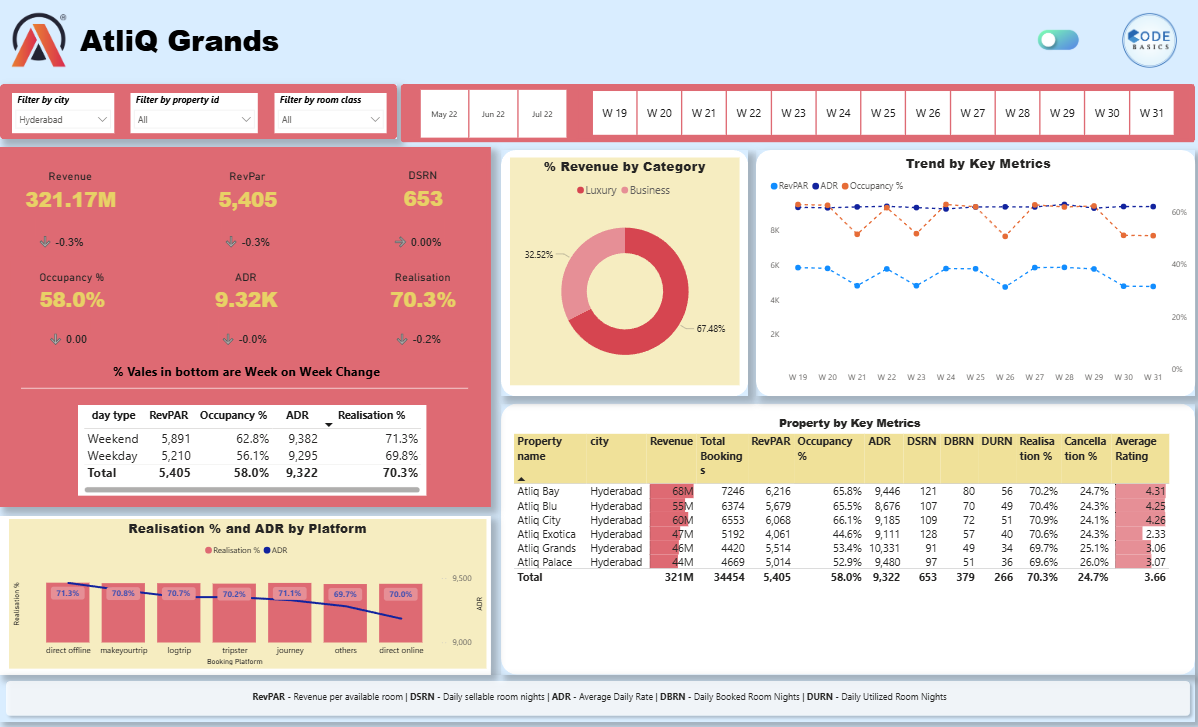

Layout of this report page (visuals, bound fields, positions):
{"tool":"powerbi","page":{"name":"Executive View","canvas":[1800,1100],"ordinal":4},"visuals":[{"type":"shape","box":[752.5,607.5,1037.5,405],"z":0},{"type":"tableEx","title":"Property by Key Metrics","fields":{"Values":["dim_hotels.property_name","dim_hotels.city","key_resources.Revenue","key_resources.Total Bookings","key_resources.RevPAR","key_resources.Occupancy %","key_resources.ADR","key_resources.DSRN","key_resources.DBRN","key_resources.DURN","key_resources.Realisation %","key_resources.Cancellation %"]},"box":[765,625,1014,350],"z":1000},{"type":"shape","box":[5,130,592.5,82.5],"z":2000},{"type":"slicer","fields":{"Values":["dim_hotels.city"]},"box":[23.3,142.5,152.5,60],"z":3000},{"type":"slicer","fields":{"Values":["dim_hotels.property_id"]},"box":[198.3,142.5,190,60],"z":4000},{"type":"slicer","fields":{"Values":["dim_rooms.room_class"]},"box":[413.3,142.5,167.5,60],"z":5000},{"type":"shape","box":[602.5,130,1187.5,87.5],"z":6000},{"type":"slicer","fields":{"Values":["dim_date.mmm yy"]},"box":[610.8,137.5,257.5,75],"z":7000},{"type":"slicer","fields":{"Values":["dim_date.week no"]},"box":[863.3,135,915,77.5],"z":8000},{"type":"shape","box":[5,225,732.5,537.5],"z":9000},{"type":"shape","box":[17.5,237.5,712.5,150],"z":10000},{"type":"shape","box":[20,395,712.5,150],"z":11000},{"type":"card","title":"Revenue","fields":{"Values":["key_resources.Revenue"]},"box":[35,257.1,147.5,70],"z":12000},{"type":"card","title":"RevPar","fields":{"Values":["key_resources.RevPAR"]},"box":[300,257.1,147.5,70],"z":13000},{"type":"tableEx","fields":{"Values":["key_resources.Revpar WoW change %"]},"box":[329,324.1,116.3,71.7],"z":14000},{"type":"card","title":"DSRN","fields":{"Values":["key_resources.DSRN"]},"box":[562.5,255.8,147.5,72.5],"z":15000},{"type":"tableEx","fields":{"Values":["key_resources.Revenue WoW change %"]},"box":[52,324.1,101.4,71.7],"z":16000},{"type":"card","title":"Occupancy %","fields":{"Values":["key_resources.Occupancy %"]},"box":[37.5,407.5,147.5,70],"z":17000},{"type":"card","title":"ADR","fields":{"Values":["key_resources.ADR"]},"box":[297.5,408.5,147.5,70],"z":18000},{"type":"card","title":"Realisation","fields":{"Values":["key_resources.Realisation %"]},"box":[561.4,408.5,147.1,70],"z":19000},{"type":"tableEx","fields":{"Values":["key_resources.Occupancy WoW change %"]},"box":[66.8,470,89.1,76.7],"z":20000},{"type":"tableEx","fields":{"Values":["key_resources.ADR WoW change %"]},"box":[324.1,470,101.4,76.7],"z":21000},{"type":"tableEx","fields":{"Values":["key_resources.\"Realisation WoW change %"]},"box":[583.8,470,101.4,76.7],"z":22000},{"type":"tableEx","fields":{"Values":["key_resources.\"DSRN WoW change %"]},"box":[581.3,324.1,106.4,71.7],"z":23000},{"type":"shape","box":[752.5,227.5,369,367.5],"z":24000},{"type":"donutChart","title":"% Revenue by Category","fields":{"Category":["dim_hotels.category"],"Y":["key_resources.Revenue"]},"box":[765,240,342.5,340],"z":25000},{"type":"shape","box":[1132.5,227.5,657.5,367.5],"z":26000},{"type":"lineChart","title":"Trend by Key Metrics","fields":{"Category":["dim_date.week no"],"Y":["key_resources.RevPAR","key_resources.ADR"],"Y2":["key_resources.Occupancy %"]},"box":[1147.5,235,632.5,350],"z":27000},{"type":"shape","box":[5,775,732.5,237.5],"z":28000},{"type":"shape","box":[5,1012.5,1785,70],"z":29000},{"type":"textbox","box":[352.5,1030,1092.5,35],"z":30000},{"type":"lineStackedColumnComboChart","title":"Realisation % and ADR by Platform","fields":{"Category":["fact_bookings.booking_platform"],"Y":["key_resources.Realisation %"],"Y2":["key_resources.ADR"]},"box":[17.5,780,712.5,223],"z":31000},{"type":"image","box":[1650,15,140,97.5],"z":32000},{"type":"shape","box":[35,575,667.5,17.5],"z":33000},{"type":"textbox","box":[152.9,545.7,440,30],"z":34000},{"type":"tableEx","fields":{"Values":["dim_date.day type","key_resources.RevPAR","key_resources.Occupancy %","key_resources.ADR","key_resources.Realisation %"]},"box":[120,610,520,135],"z":35000},{"type":"shape","box":[5,7.5,467.5,115],"z":36000},{"type":"image","box":[15,12.5,95,100],"z":37000},{"type":"textbox","box":[112.5,30,335,70],"z":38000},{"type":"image","title":"Setting icon","box":[1540,32.5,87.5,60],"z":44500}]}

Visuals, with their boxes in screenshot pixels (x1, y1, x2, y2), scaled from the page's 1800x1100 canvas onto the 1198x727 screenshot:
shape: <box>501,402,1191,669</box>
"Property by Key Metrics" tableEx: <box>509,413,1184,644</box>
shape: <box>3,86,398,140</box>
slicer - dim_hotels.city: <box>16,94,117,134</box>
slicer - dim_hotels.property_id: <box>132,94,258,134</box>
slicer - dim_rooms.room_class: <box>275,94,387,134</box>
shape: <box>401,86,1191,144</box>
slicer - dim_date.mmm yy: <box>407,91,578,140</box>
slicer - dim_date.week no: <box>575,89,1184,140</box>
shape: <box>3,149,491,504</box>
shape: <box>12,157,486,256</box>
shape: <box>13,261,488,360</box>
"Revenue" card: <box>23,170,121,216</box>
"RevPar" card: <box>200,170,298,216</box>
tableEx - key_resources.Revpar WoW change %: <box>219,214,296,262</box>
"DSRN" card: <box>374,169,473,217</box>
tableEx - key_resources.Revenue WoW change %: <box>35,214,102,262</box>
"Occupancy %" card: <box>25,269,123,316</box>
"ADR" card: <box>198,270,296,316</box>
"Realisation" card: <box>374,270,472,316</box>
tableEx - key_resources.Occupancy WoW change %: <box>44,311,104,361</box>
tableEx - key_resources.ADR WoW change %: <box>216,311,283,361</box>
tableEx - key_resources."Realisation WoW change %: <box>389,311,456,361</box>
tableEx - key_resources."DSRN WoW change %: <box>387,214,458,262</box>
shape: <box>501,150,746,393</box>
"% Revenue by Category" donutChart: <box>509,159,737,383</box>
shape: <box>754,150,1191,393</box>
"Trend by Key Metrics" lineChart: <box>764,155,1185,387</box>
shape: <box>3,512,491,669</box>
shape: <box>3,669,1191,715</box>
textbox: <box>235,681,962,704</box>
"Realisation % and ADR by Platform" lineStackedColumnComboChart: <box>12,516,486,663</box>
image: <box>1098,10,1191,74</box>
shape: <box>23,380,468,392</box>
textbox: <box>102,361,395,380</box>
tableEx - dim_date.day type x key_resources.RevPAR: <box>80,403,426,492</box>
shape: <box>3,5,314,81</box>
image: <box>10,8,73,74</box>
textbox: <box>75,20,298,66</box>
"Setting icon" image: <box>1025,21,1083,61</box>
